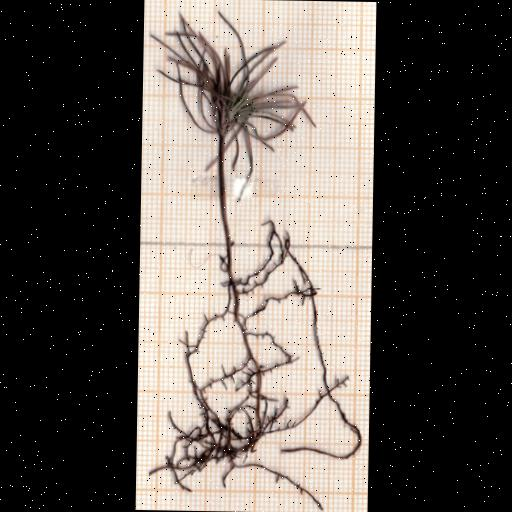flowerCedr: (157, 13, 315, 162)
rootCedr: (151, 221, 360, 509)
stemCedr: (218, 137, 231, 256)
